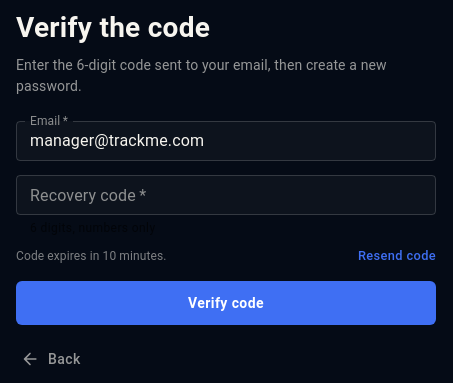
Test: ForgotPasswordVerifyPage › strips non-digit characters and caps entry at 6 digits
In the field labelled "Recovery code *": {"x": 226, "y": 195} [16,175,436,215], type "a1b2c3d4e5f6g7"
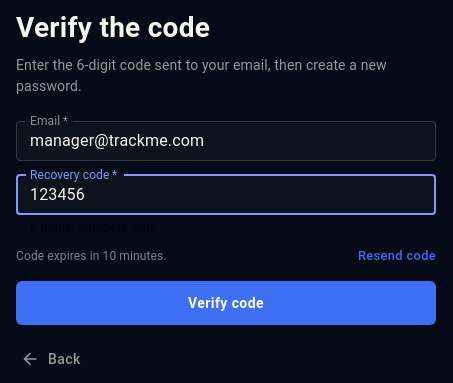
Result: the field labelled "Recovery code *" holds "123456" at [16,175,436,215]
